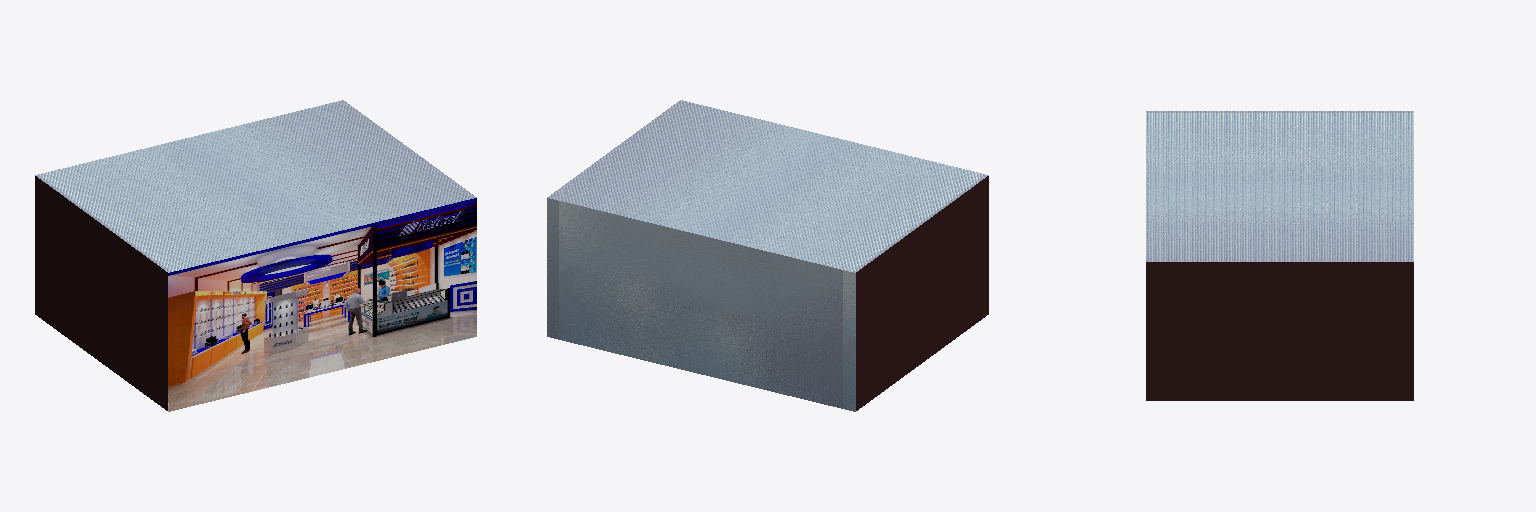
The picture shows the model from 3 angles: view 1: azimuth 30°, elevation 25°; view 2: azimuth 150°, elevation 25°; view 3: azimuth 270°, elevation 25°; orthographic projection.
Parts seen in each view (by area): view 1: Box001; view 2: Box001; view 3: Box001.
Part boxes in pixels (x1,y1,x2,y2): Box001: (35,100,476,411); Box001: (547,100,988,411); Box001: (1146,111,1413,400).
Bounding box in the file's own units: 120 × 51.9 × 90.29.
4 materials, 3 textured.